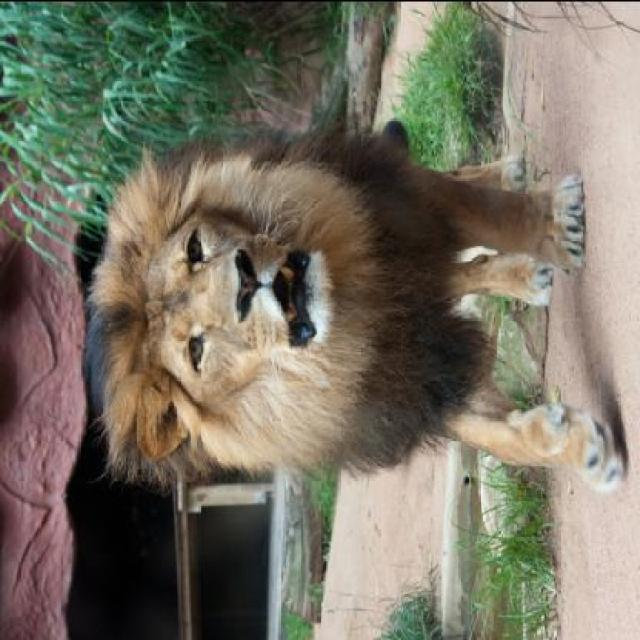Lion: (77, 83, 638, 515)
